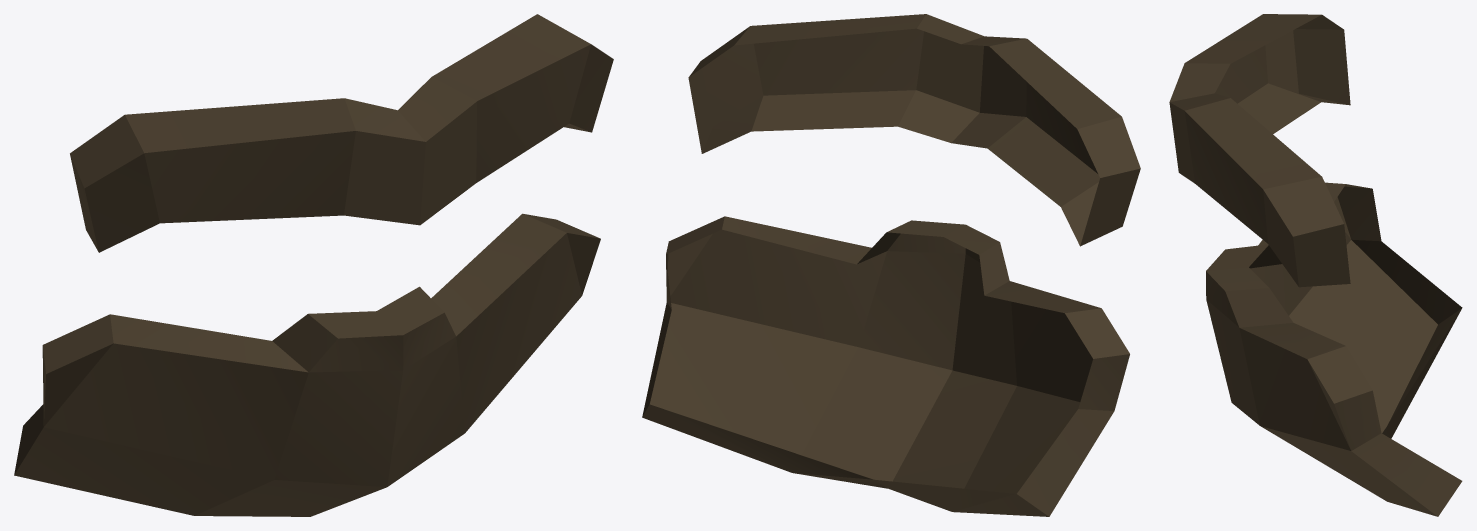
File: Beard_02_SM.FBX
3 renders of one model, left to right at view 1: azimuth 30°, elevation 25°; view 2: azimuth 150°, elevation 25°; view 3: azimuth 270°, elevation 25°, orthographic. The views are drawn at different scales.
Parts seen in each view (by area): view 1: Beard_02_SM; view 2: Beard_02_SM; view 3: Beard_02_SM.
Boxes of the visible parts, x1,y1,x2,y2 form: Beard_02_SM: [14, 14, 613, 516]; Beard_02_SM: [642, 14, 1140, 516]; Beard_02_SM: [1169, 14, 1462, 516].
Size of what is drawn, in the model's own units: 9.55 by 5.43 by 8.
